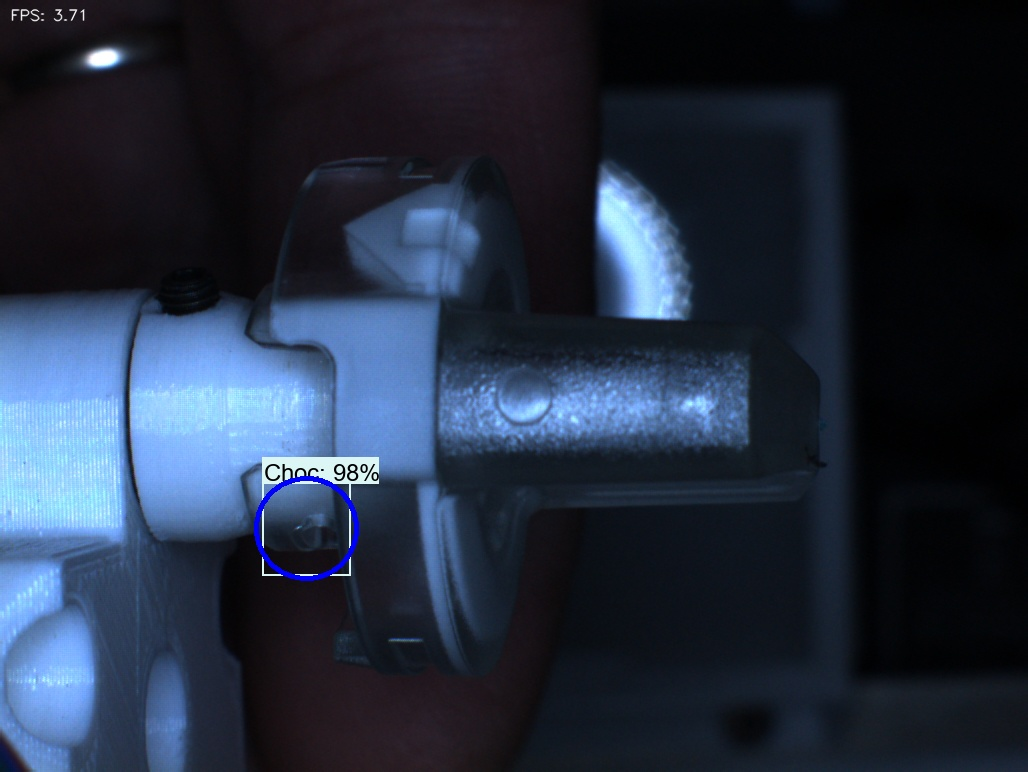DentOk: (314, 201, 386, 285)
